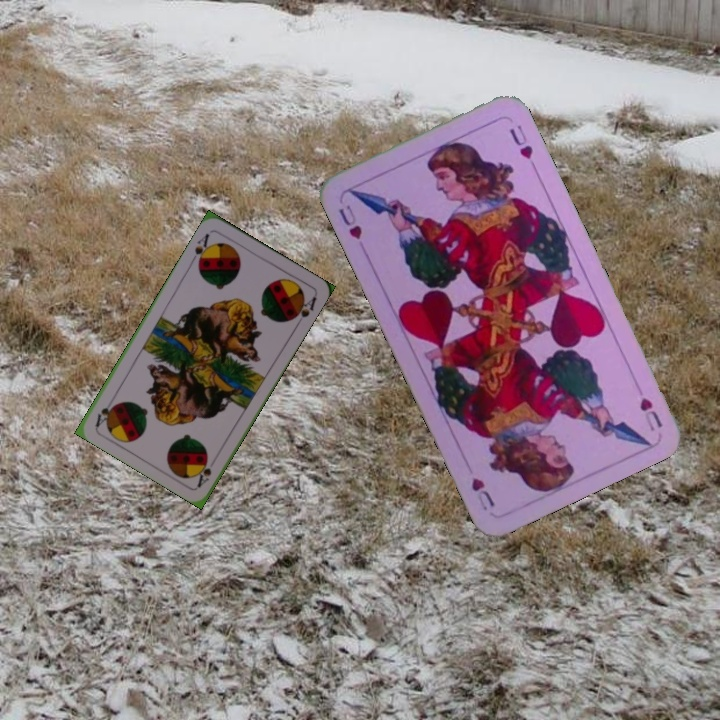HU: (635, 392, 666, 434), (334, 201, 365, 242)
SA: (187, 229, 214, 268), (193, 452, 220, 490)
